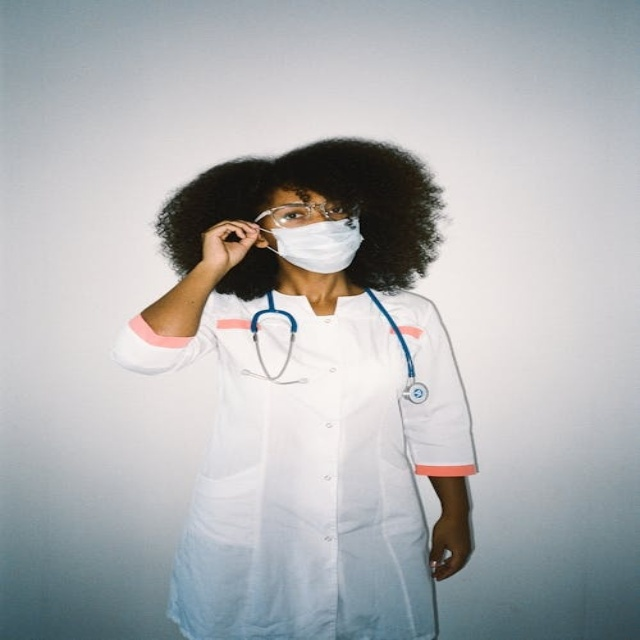Gafas: (253, 200, 359, 228)
Mascara: (256, 210, 364, 273)
Sin_guantes: (422, 509, 483, 581), (191, 216, 261, 275)
